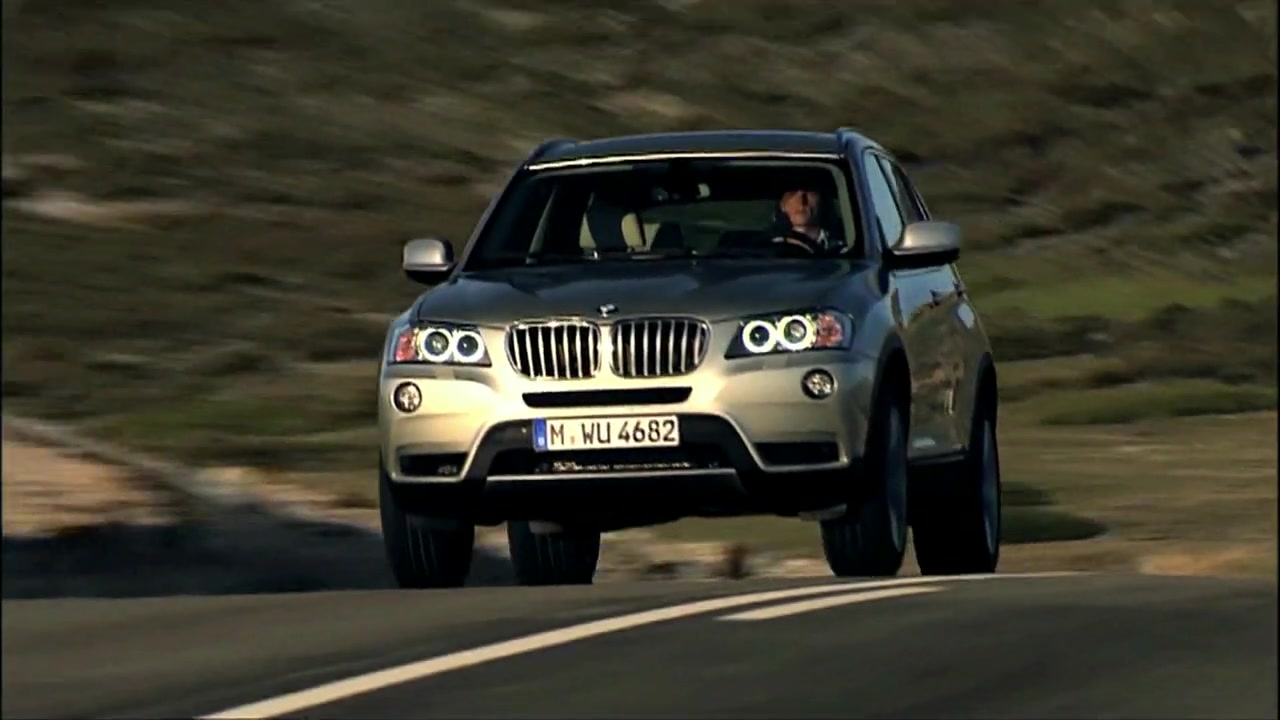car: (373, 123, 1009, 586)
